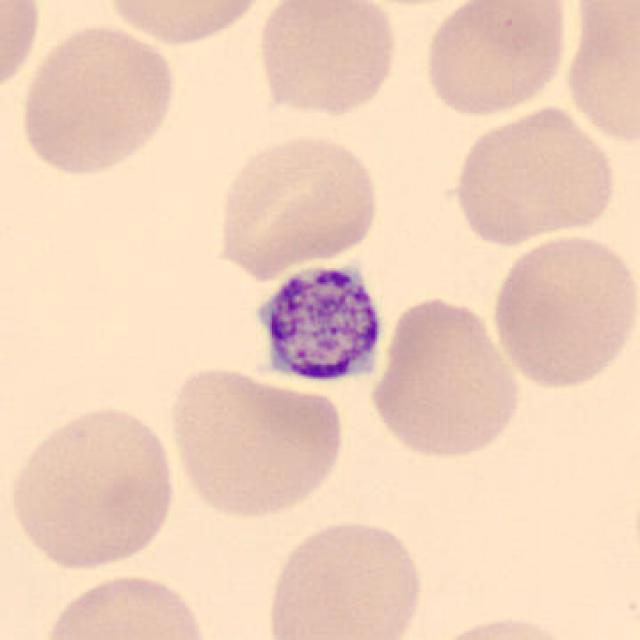Platelets: (242, 256, 389, 392)
RBC: (5, 400, 182, 575), (164, 360, 348, 522), (366, 291, 524, 465), (15, 19, 182, 180), (210, 127, 384, 280), (447, 102, 620, 249), (487, 229, 637, 393), (262, 515, 428, 640), (420, 0, 572, 120), (252, 0, 402, 120), (38, 569, 214, 640), (560, 2, 640, 150), (99, 0, 275, 49), (420, 610, 588, 640), (0, 0, 44, 102)
